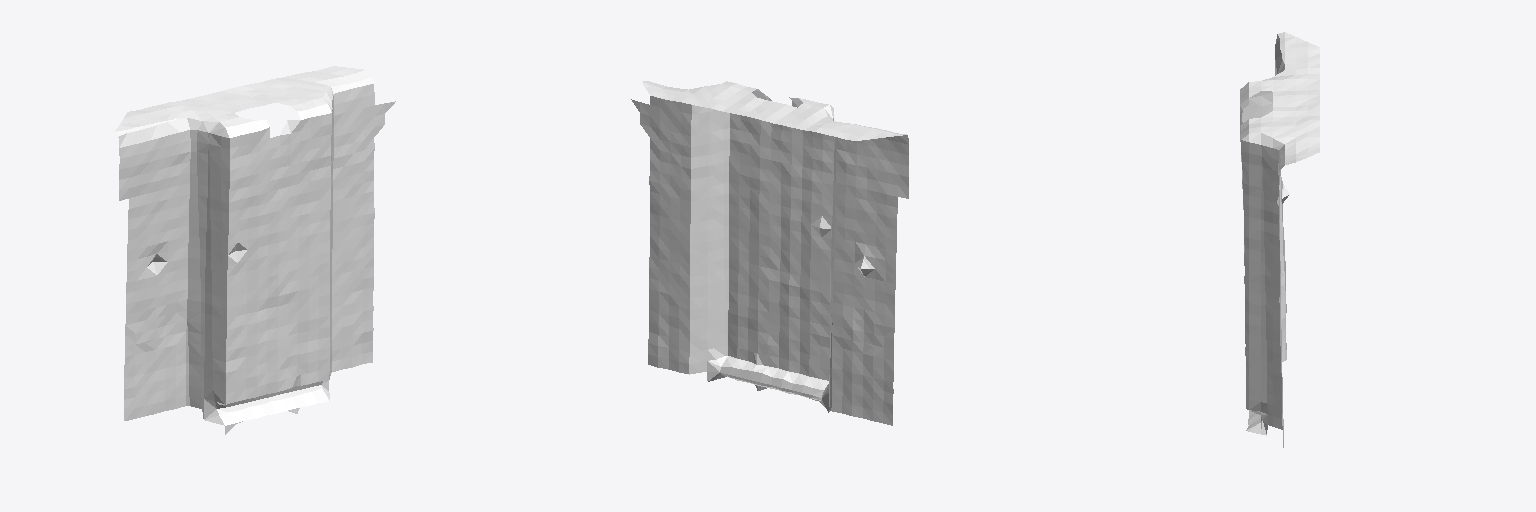
Rendered from Hall5R.obj.
3 renders of one model, left to right at view 1: azimuth 30°, elevation 25°; view 2: azimuth 150°, elevation 25°; view 3: azimuth 270°, elevation 25°, orthographic.
Bounding box in the file's own units: 2.25 × 2.42 × 0.5647.